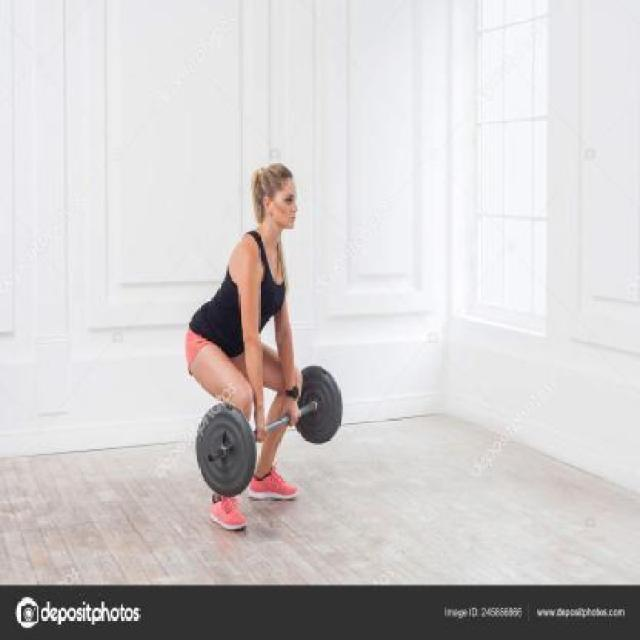barbell: (189, 406, 262, 498)
